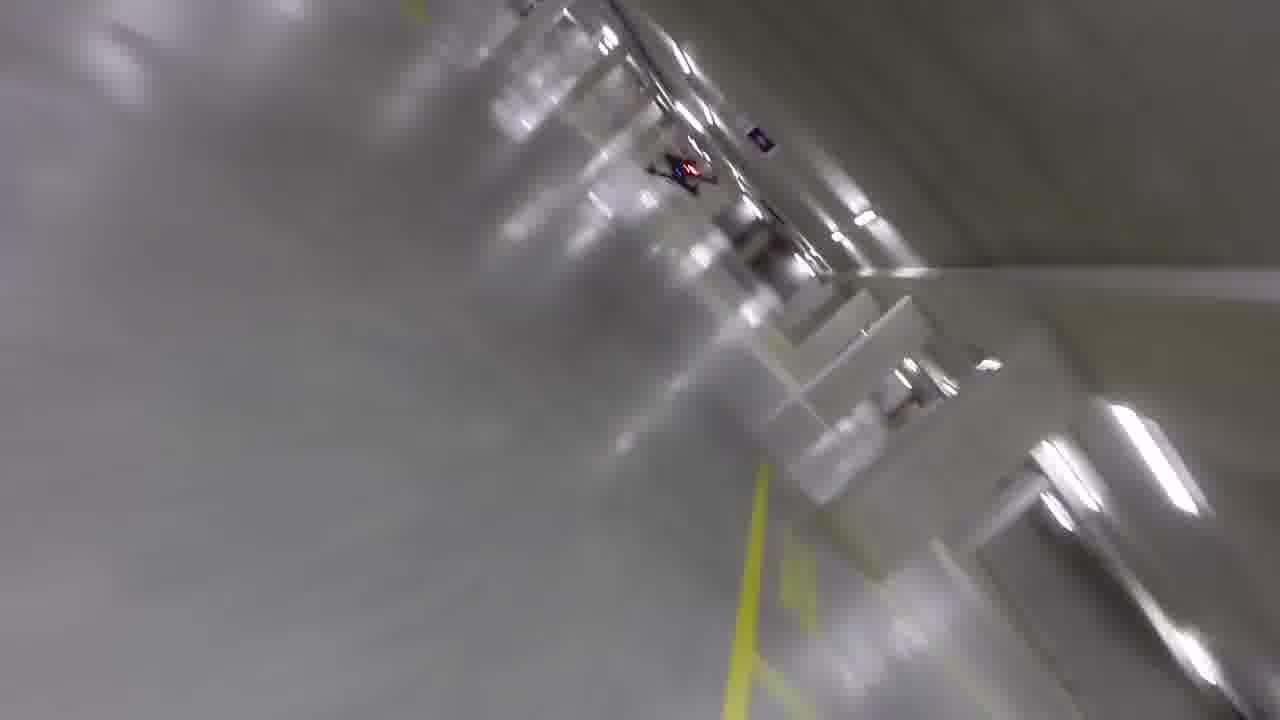drone: (642, 136, 736, 211)
